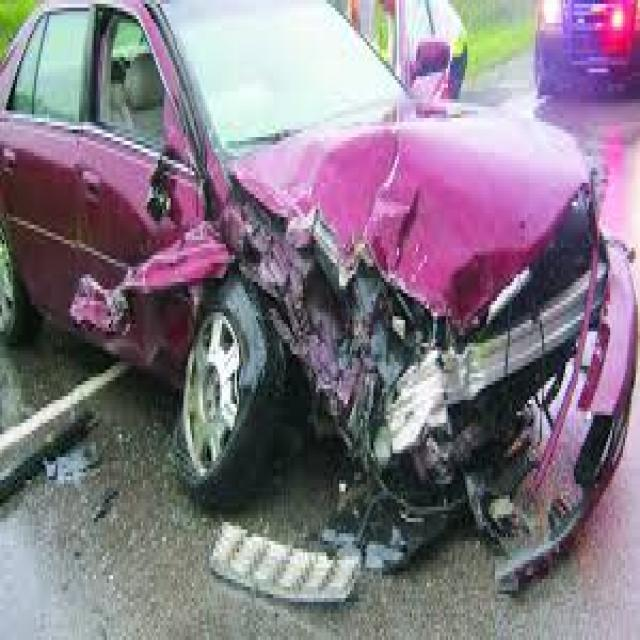severe: (0, 61, 626, 615), (29, 62, 88, 84)
